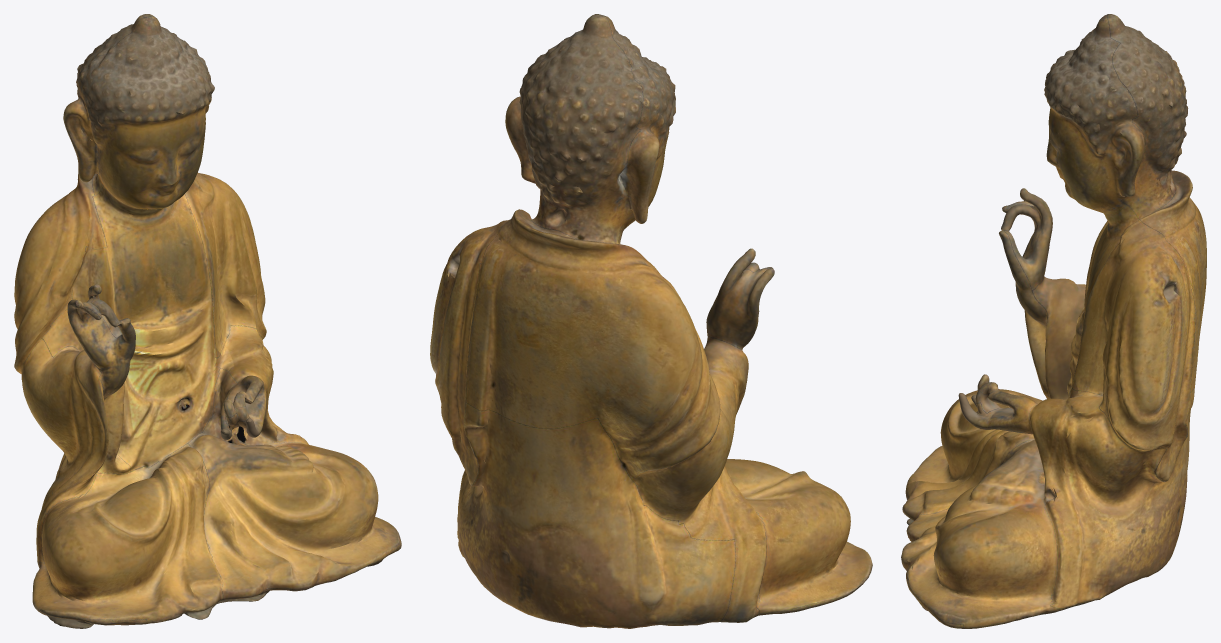
File: buddha.glb
The picture shows the model from 3 angles, left to right: view 1: azimuth 30°, elevation 25°; view 2: azimuth 150°, elevation 25°; view 3: azimuth 270°, elevation 25°; orthographic projection. The views are drawn at different scales.
Visible parts, largest first — view 1: seated_buddha; view 2: seated_buddha; view 3: seated_buddha.
Part boxes in pixels (x1=…): seated_buddha: x1=14, y1=14, x2=401, y2=628; seated_buddha: x1=430, y1=14, x2=872, y2=628; seated_buddha: x1=901, y1=14, x2=1206, y2=628.
Size of the model in its own units: 101 by 143 by 75.11.
1 material, 1 textured.
